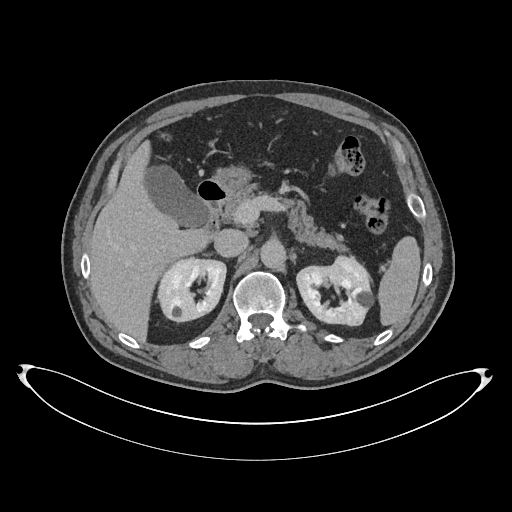Lesion: (356, 288, 375, 310)
